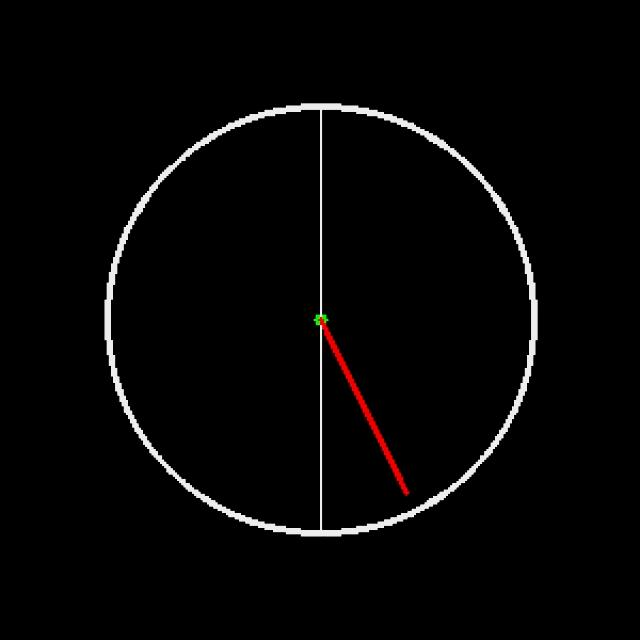Needle_Tip: (376, 463, 436, 513)
Needle_base: (302, 279, 347, 363)
